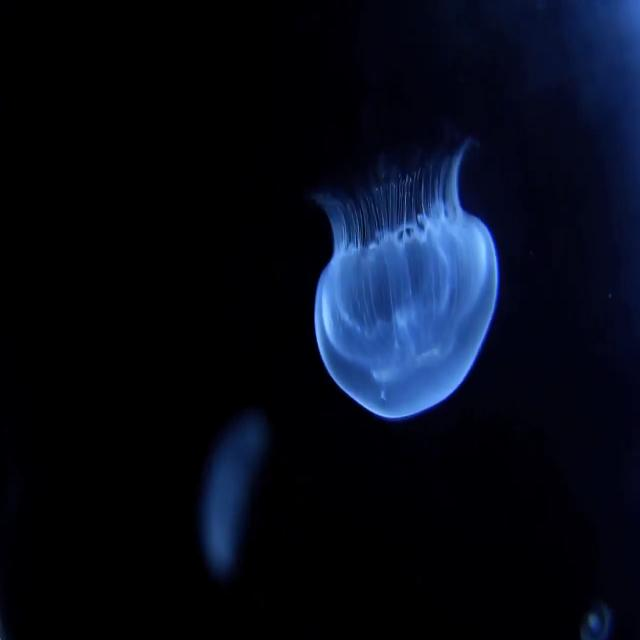Moon-jellyfish: (314, 143, 498, 419)
